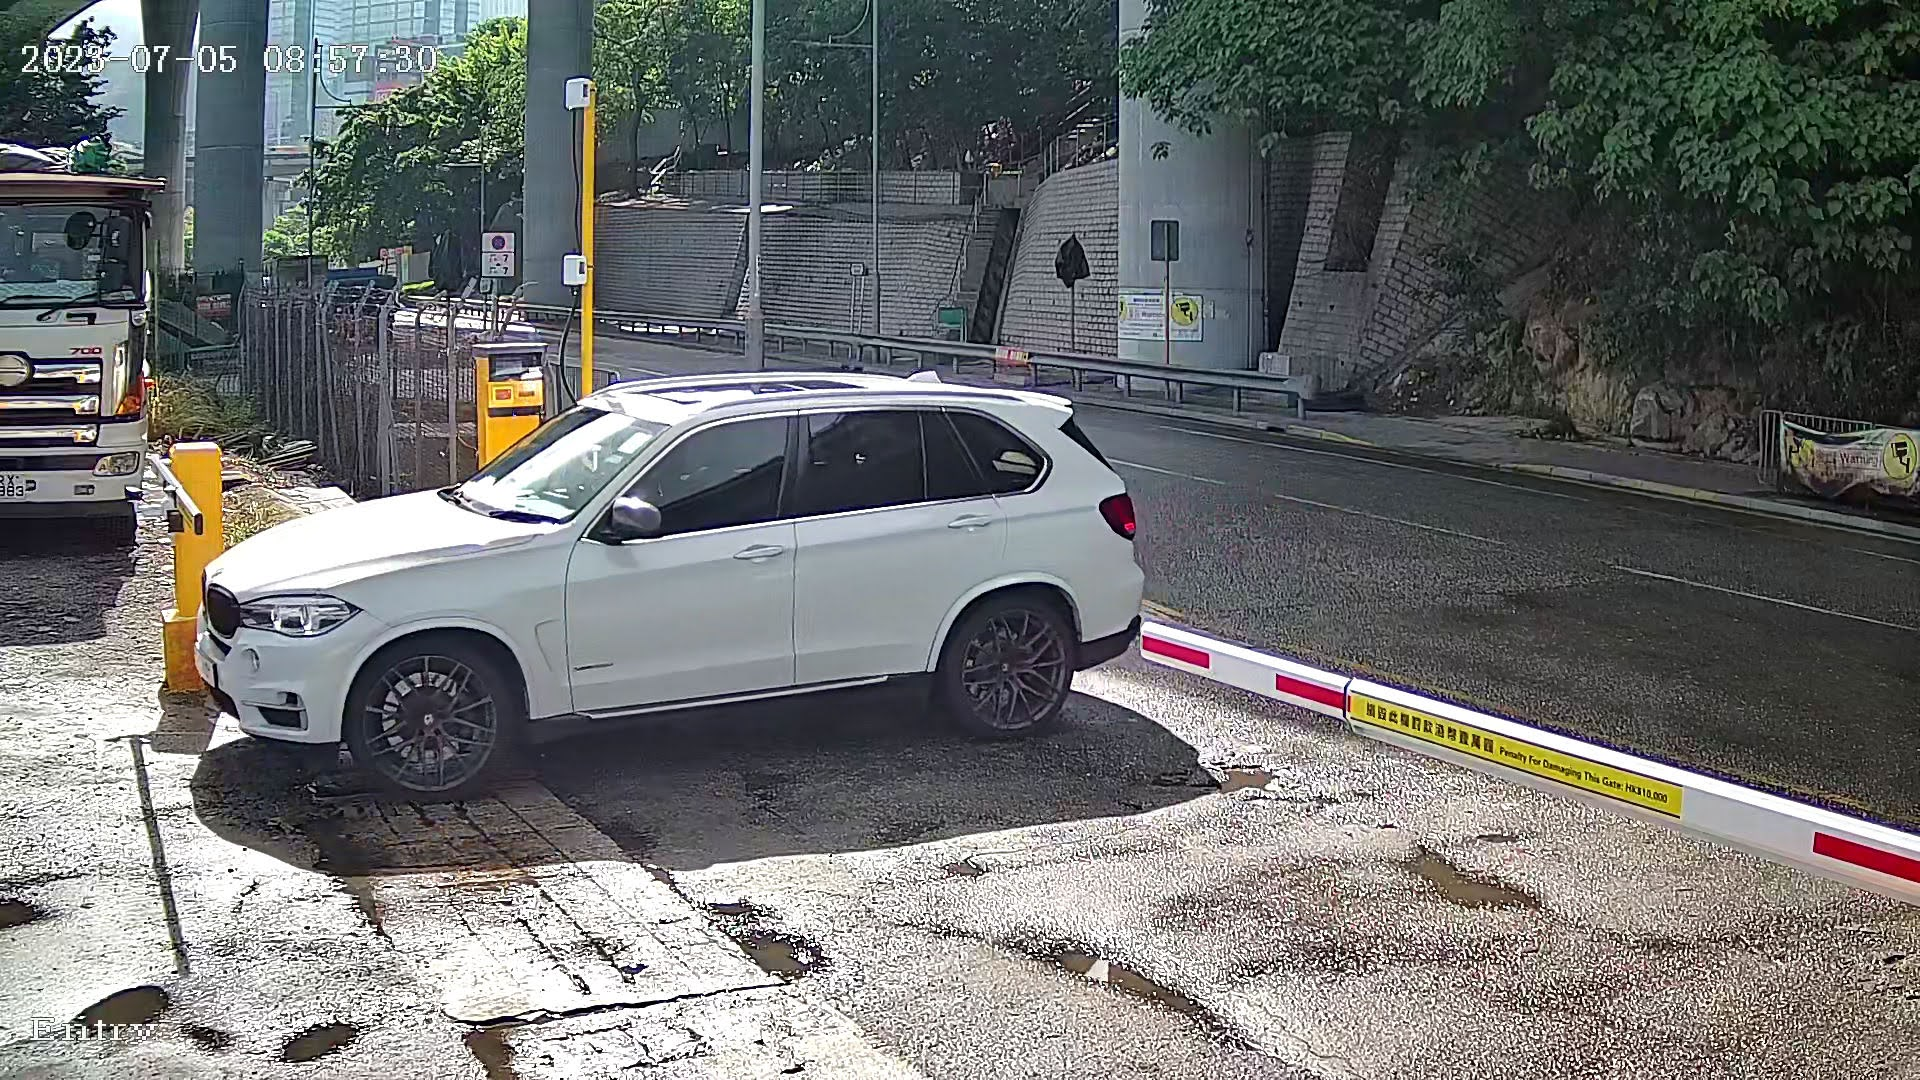privatecar: (146, 285, 1185, 831)
